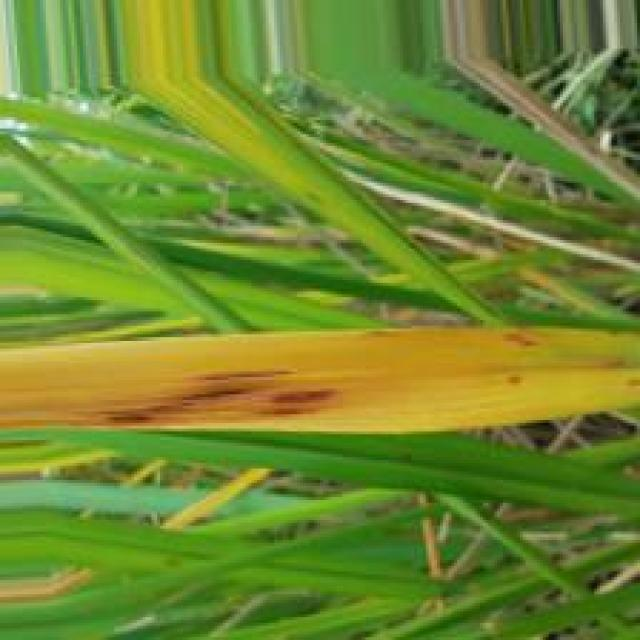Narrow_Brown_Leaf_Spot: (0, 325, 640, 436)
